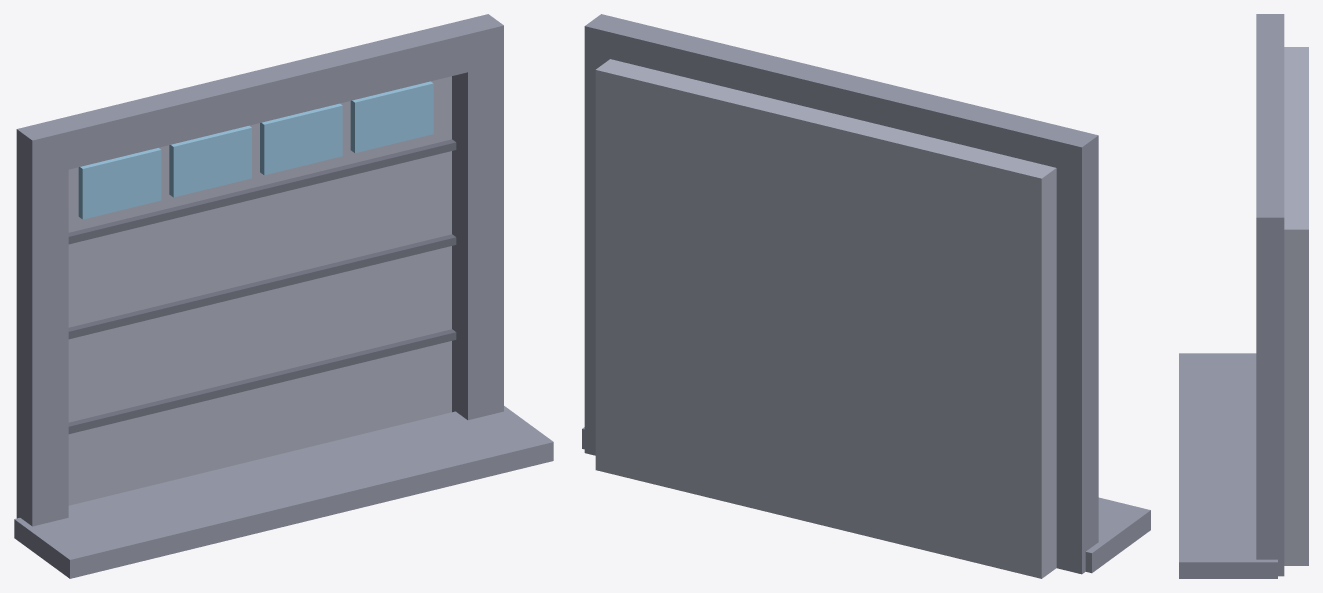
File: door-garage.glb
3 renders of one model, left to right at view 1: azimuth 30°, elevation 25°; view 2: azimuth 150°, elevation 25°; view 3: azimuth 270°, elevation 25°, orthographic. The views are drawn at different scales.
Parts seen in each view (by area): view 1: door-garage; view 2: door-garage; view 3: door-garage.
Boxes of the visible parts, bbox=[...] form: door-garage: bbox=[14, 14, 553, 578]; door-garage: bbox=[582, 14, 1150, 578]; door-garage: bbox=[1179, 14, 1308, 578].
Bounding box in the file's own units: 0.8 × 0.64 × 0.21.
1 material, 1 textured.
